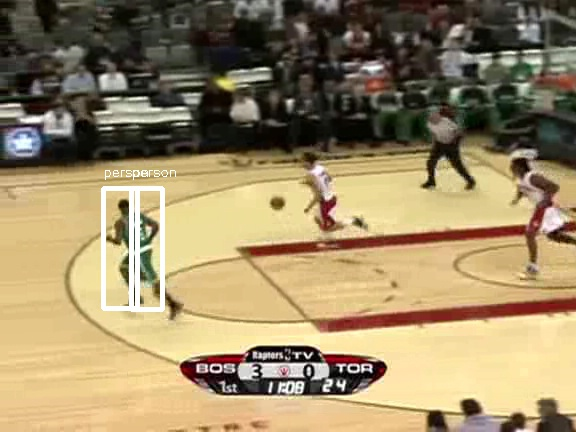person: (123, 209, 157, 290), (122, 209, 156, 290), (124, 209, 158, 290), (123, 208, 157, 289), (123, 210, 157, 291)
target_negative: (56, 4, 340, 101), (254, 272, 444, 409), (47, 360, 518, 411), (396, 223, 531, 307), (112, 311, 258, 363), (520, 280, 552, 340)
